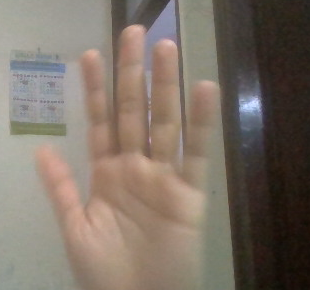move: (34, 23, 278, 290)
